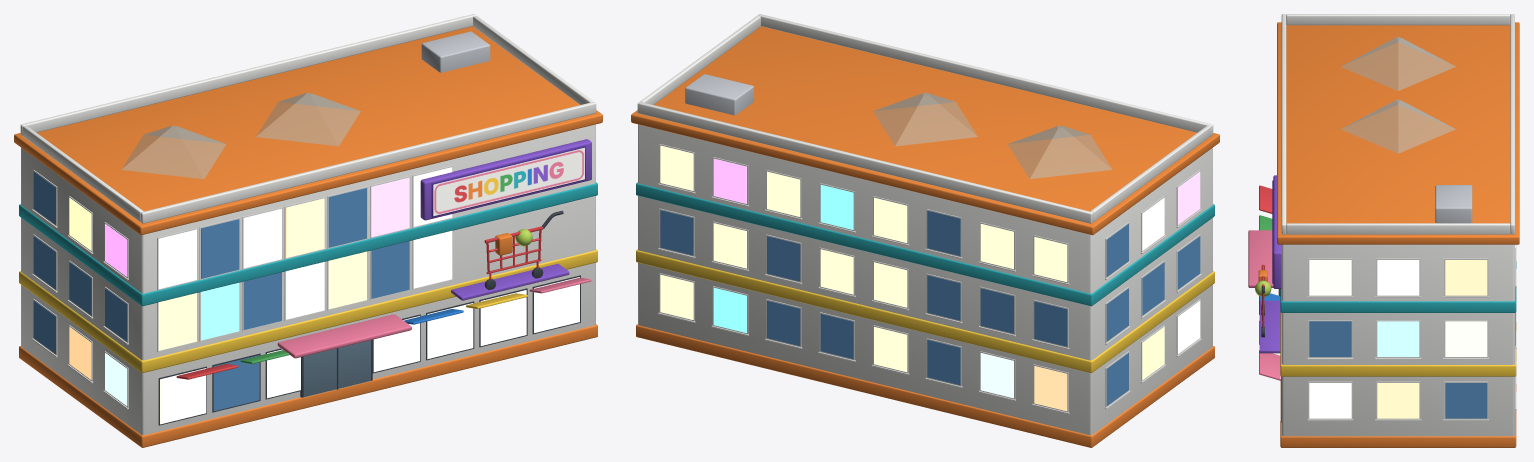
Rendered from shopping.glb.
3 renders of one model, left to right at view 1: azimuth 30°, elevation 25°; view 2: azimuth 150°, elevation 25°; view 3: azimuth 270°, elevation 25°, orthographic. The views are drawn at different scales.
Parts seen in each view (by area): view 1: shopping; view 2: shopping; view 3: shopping.
Part boxes in pixels (x1=…): shopping: x1=14, y1=14, x2=602, y2=447; shopping: x1=631, y1=14, x2=1219, y2=447; shopping: x1=1248, y1=14, x2=1519, y2=447.
Size of the model in its own units: 27.5 by 14.4 by 14.65.
Materials: 11 (2 with a texture image).
